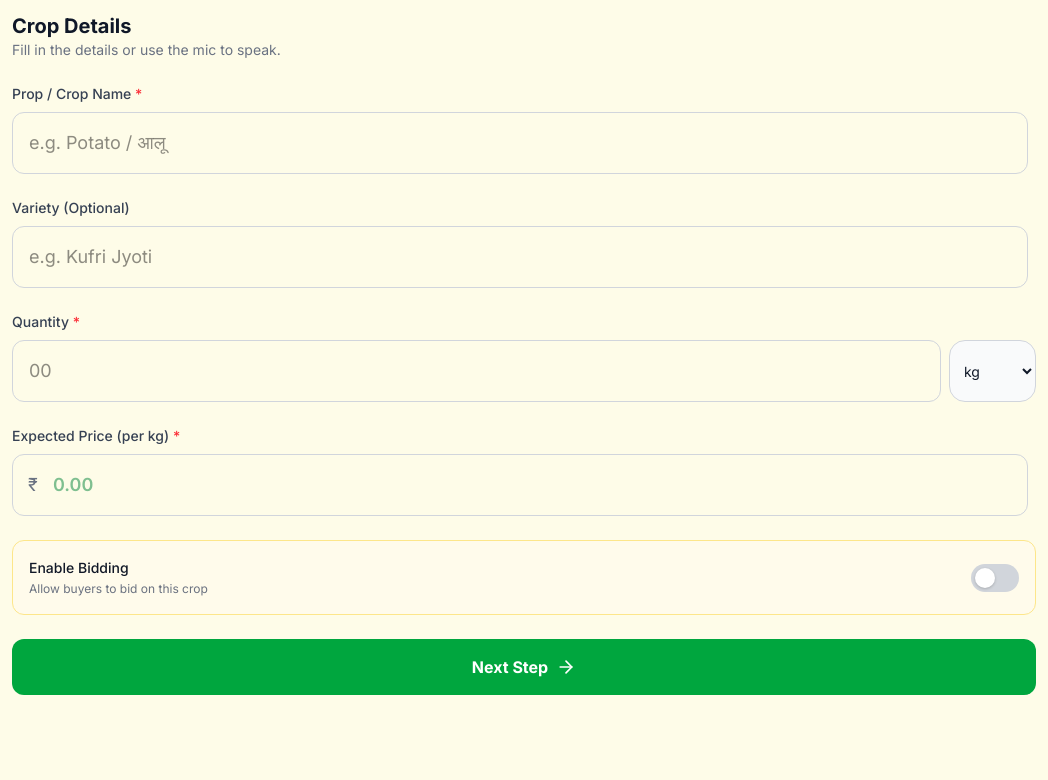
StepDetails › shows validation errors when required fields are empty
Click the button "Next Step" at [524, 667], box left=12, top=639, right=1036, bottom=695
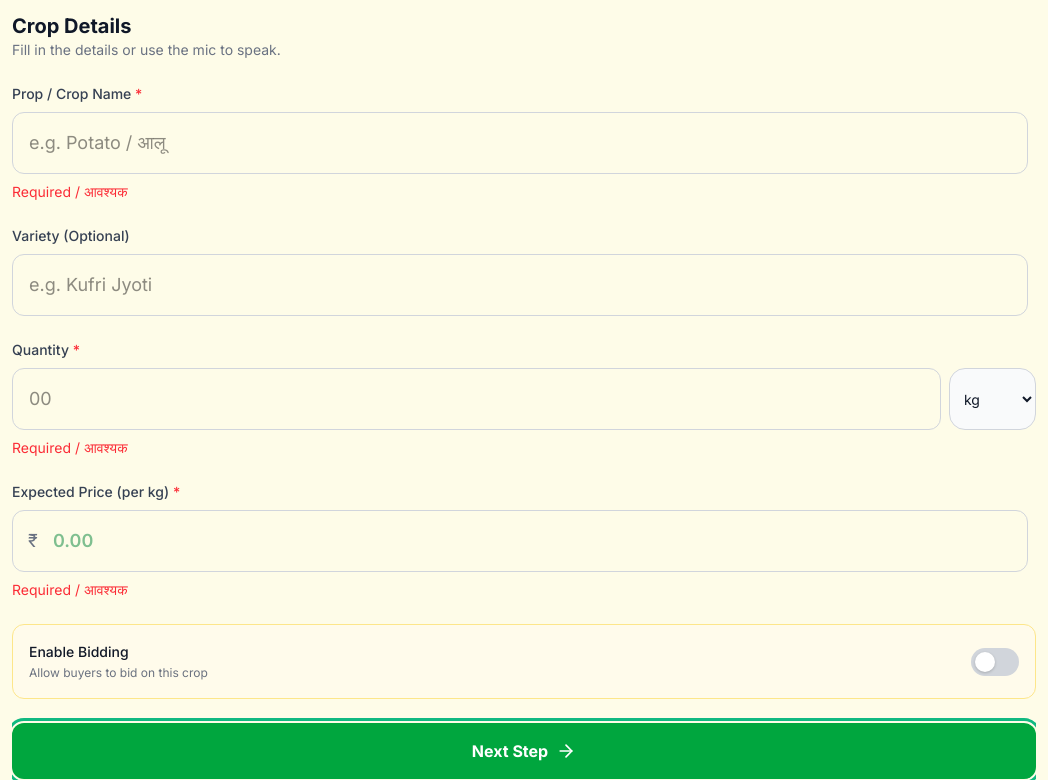
Check: the text "Required / आवश्यक" below "Prop / Crop Name" is shown, box left=12, top=183, right=128, bottom=200
